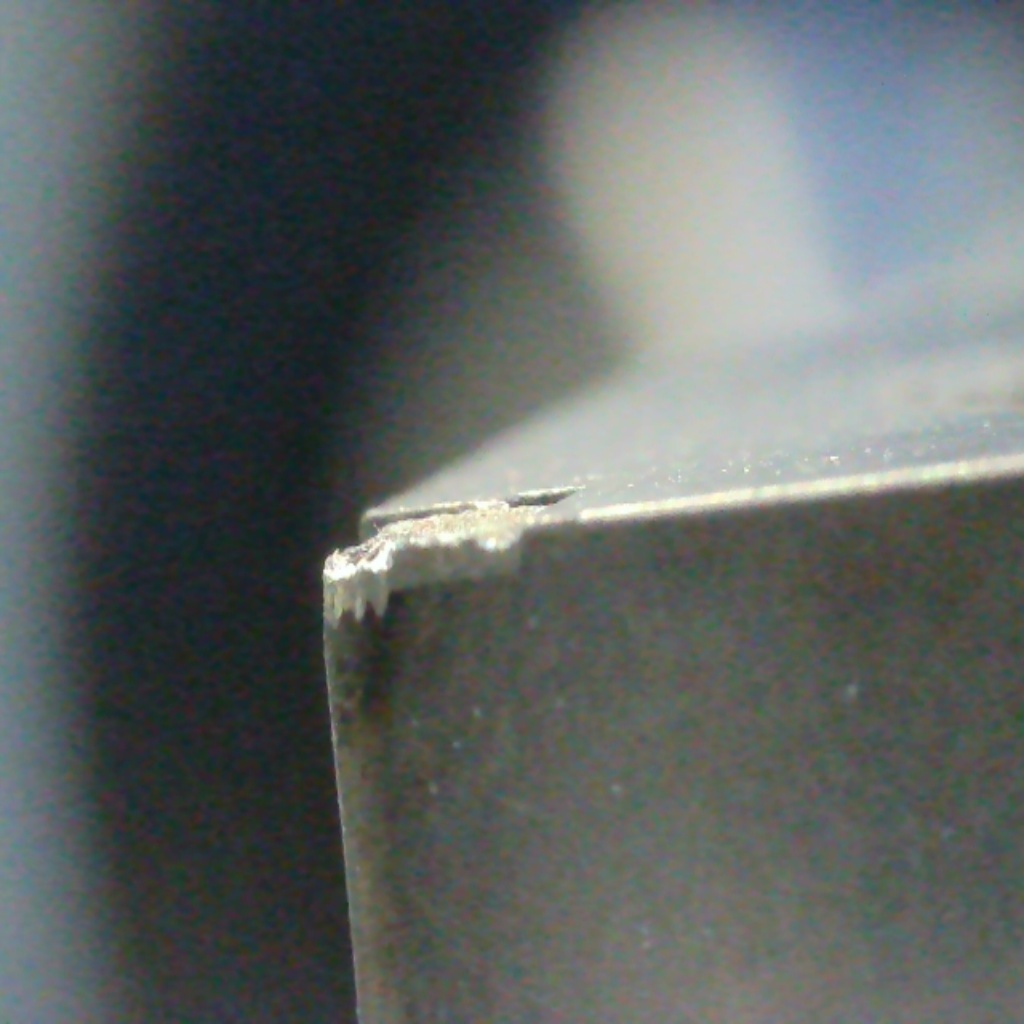flank_wear: (324, 590, 400, 627)
